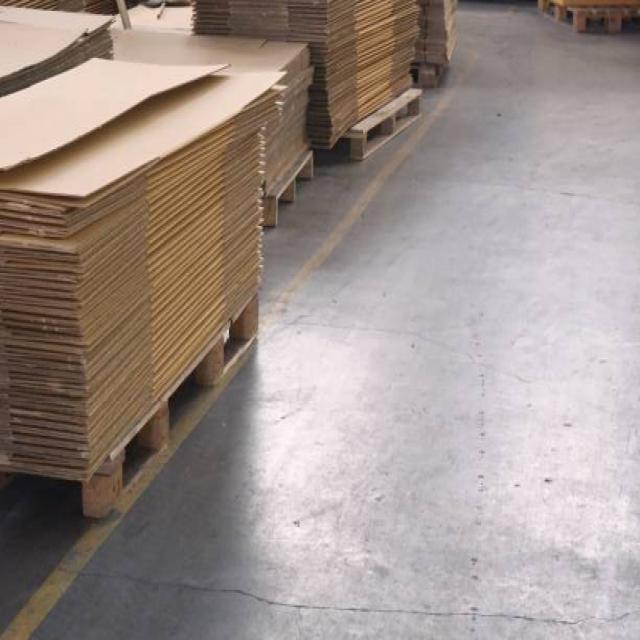Wooden-Pallets: (110, 281, 263, 516), (268, 140, 318, 240), (359, 80, 418, 164)
